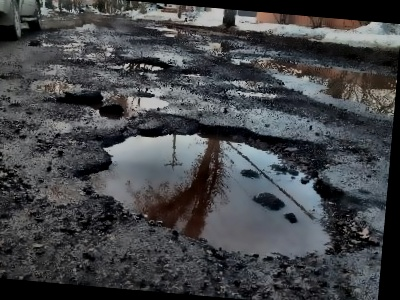pothole: (72, 108, 374, 265), (120, 56, 168, 74), (28, 77, 76, 94), (127, 92, 170, 110)
